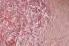plaque psoriasis: (0, 0, 48, 46)
